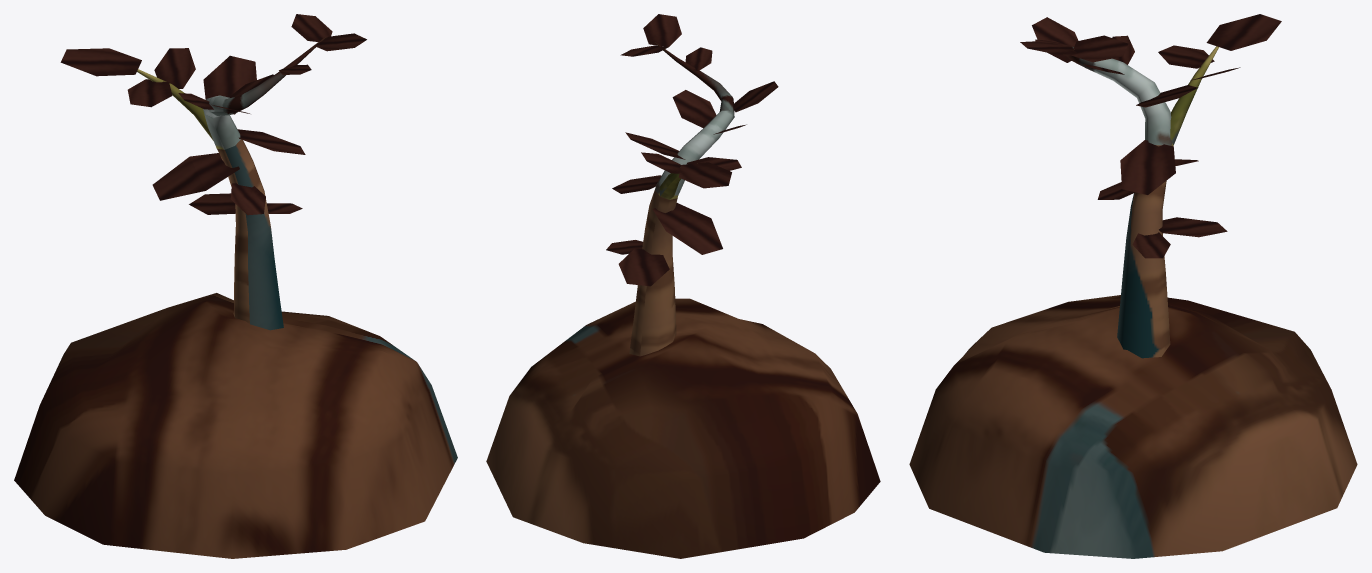
Rendered from TentSapling.fbx.
The picture shows the model from 3 angles, left to right: view 1: azimuth 30°, elevation 25°; view 2: azimuth 150°, elevation 25°; view 3: azimuth 270°, elevation 25°; orthographic projection. The views are drawn at different scales.
Visible parts, largest first — view 1: Dirt; view 2: Dirt; view 3: Dirt.
Boxes of the visible parts, <box> form: Dirt: <box>14,14,457,558</box>; Dirt: <box>486,14,880,558</box>; Dirt: <box>909,14,1357,558</box>.
Size of the model in its own units: 207 by 234 by 208.
